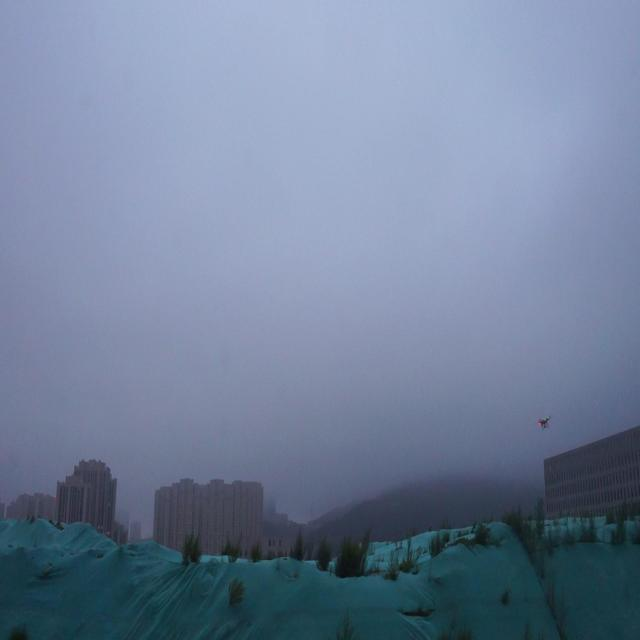drone: (535, 412, 553, 433)
